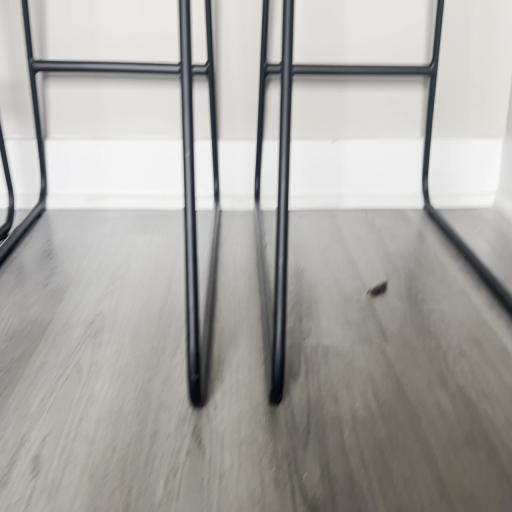cockroach: (366, 275, 391, 300)
